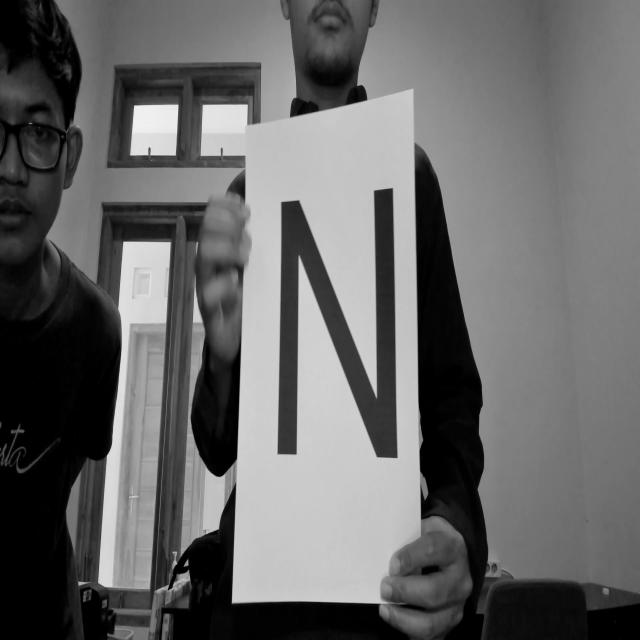n: (263, 179, 415, 480)
